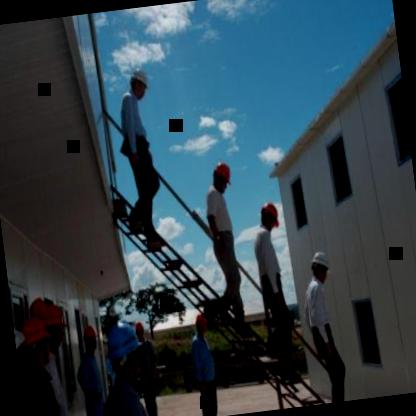helmet: (103, 319, 146, 391), (18, 314, 52, 368), (38, 304, 67, 351), (121, 64, 152, 104), (208, 155, 236, 197), (306, 245, 334, 286), (258, 198, 282, 234), (80, 320, 101, 355), (193, 309, 210, 336), (132, 318, 147, 342)
